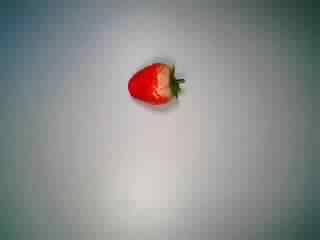strawberry: (124, 51, 190, 113)
